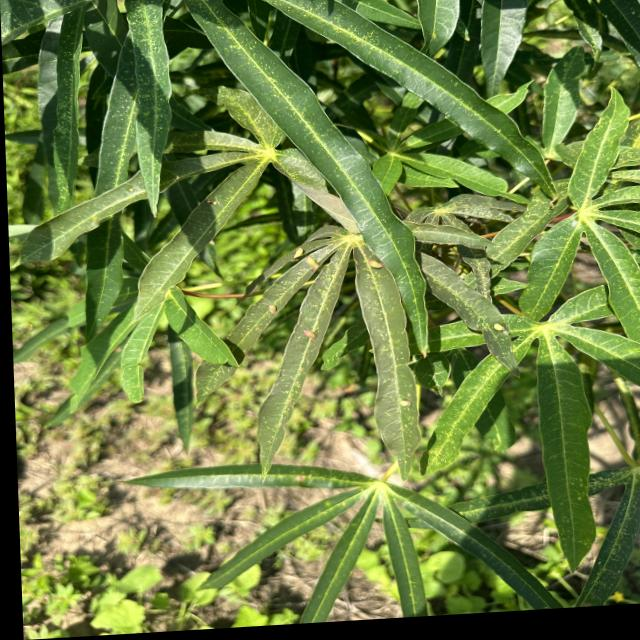Mosca: (286, 235, 334, 273), (483, 309, 523, 336), (361, 249, 401, 276), (302, 318, 331, 354), (400, 390, 420, 426), (265, 293, 286, 323)
